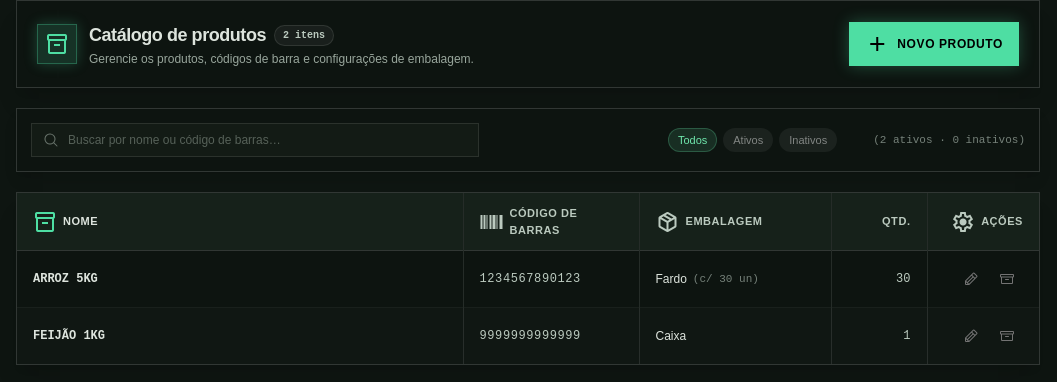
busca filtra por código de barras parcial
This screenshot has width=1057, height=382.
Expected: the button "Arroz 5kg" is shown, [33,271,98,287]
Type "456789" into the search field named "Buscar produto" at (255, 140), box [31,123,479,157]
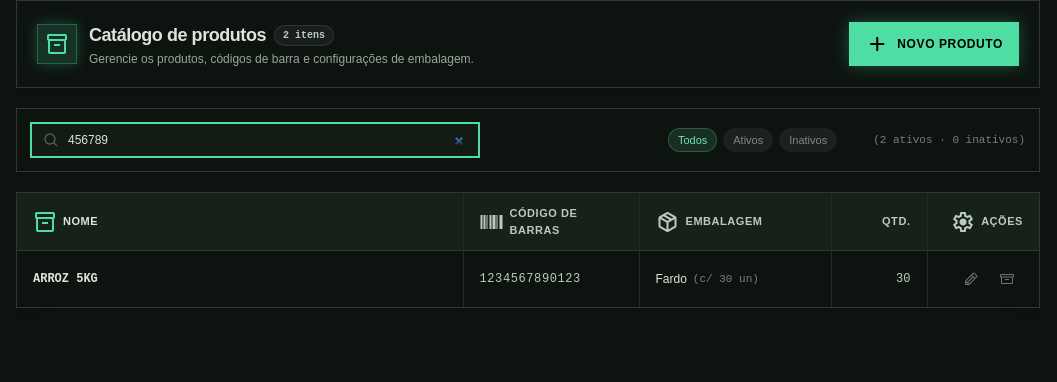
Expected: the button "Arroz 5kg" is shown, [33,271,98,287]
Expected: the button "Feijão 1kg" is gone
